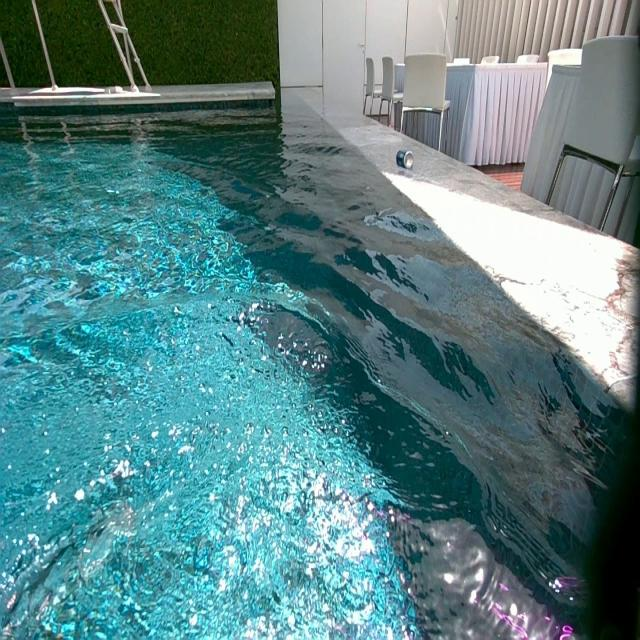Cans: (396, 149, 412, 167)
